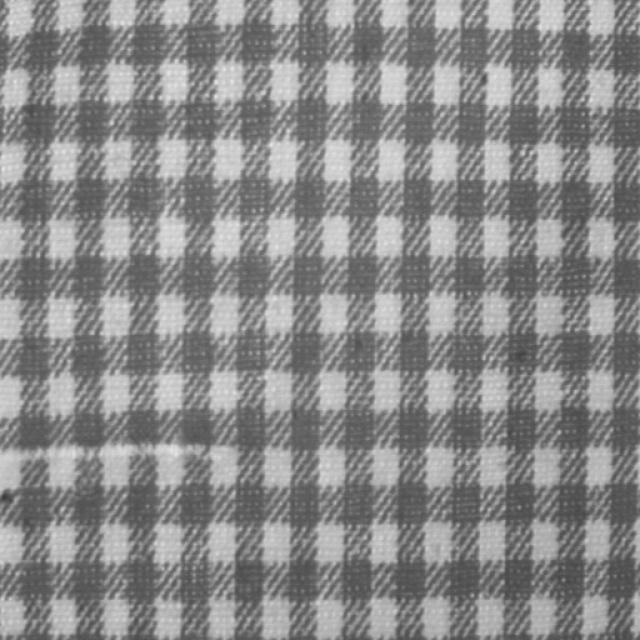Thread-Defect: (0, 444, 205, 459)
